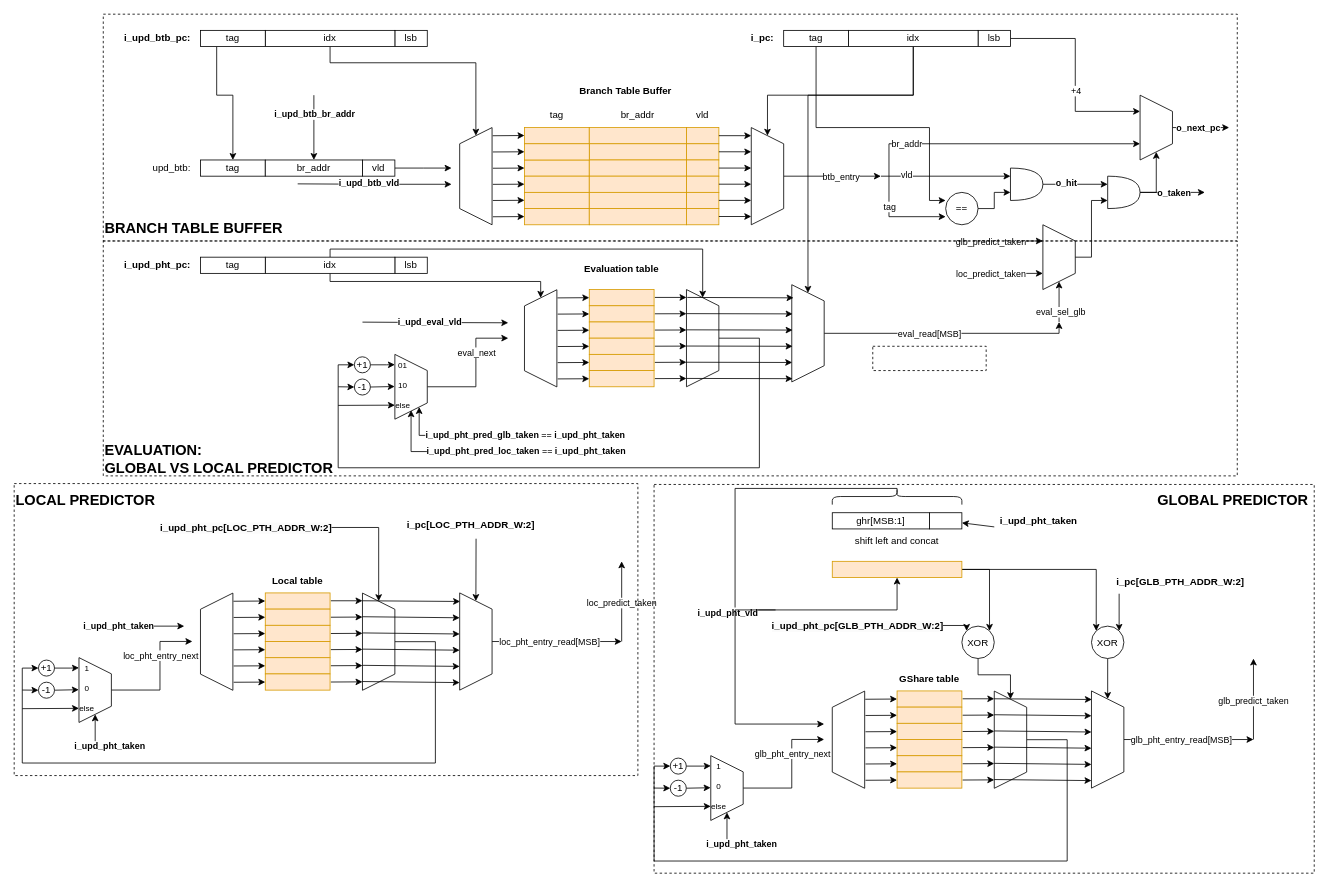
This 1328x888 diagram has some shape labels left out. Here are the shapes that lost their labels. From the top down, the centre of each, then its label:
(x=929, y=358): MSB == 1 -> take global MSB == 0 -> take local
(x=896, y=569): ghr
